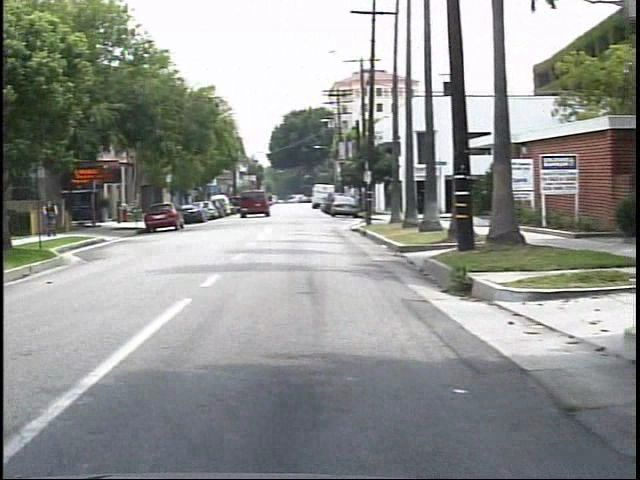person: (29, 192, 57, 239)
